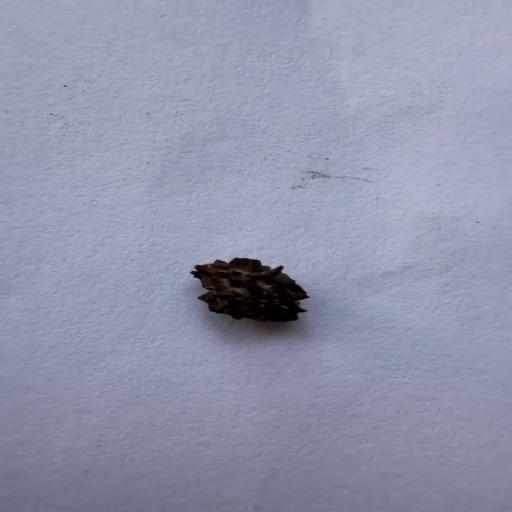papaya_seed: (174, 247, 327, 330)
